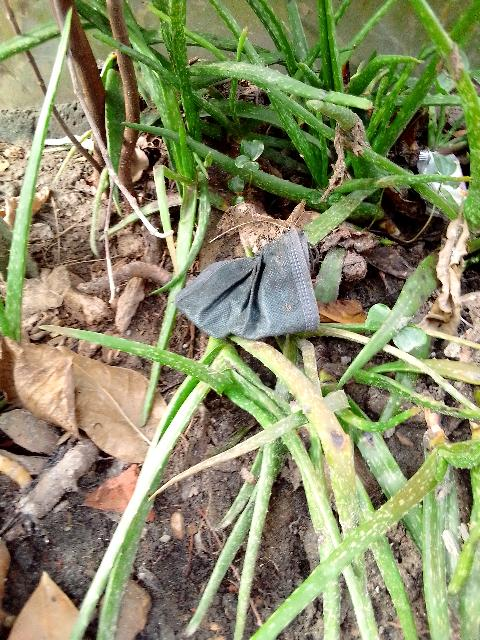mask: (181, 225, 319, 342)
